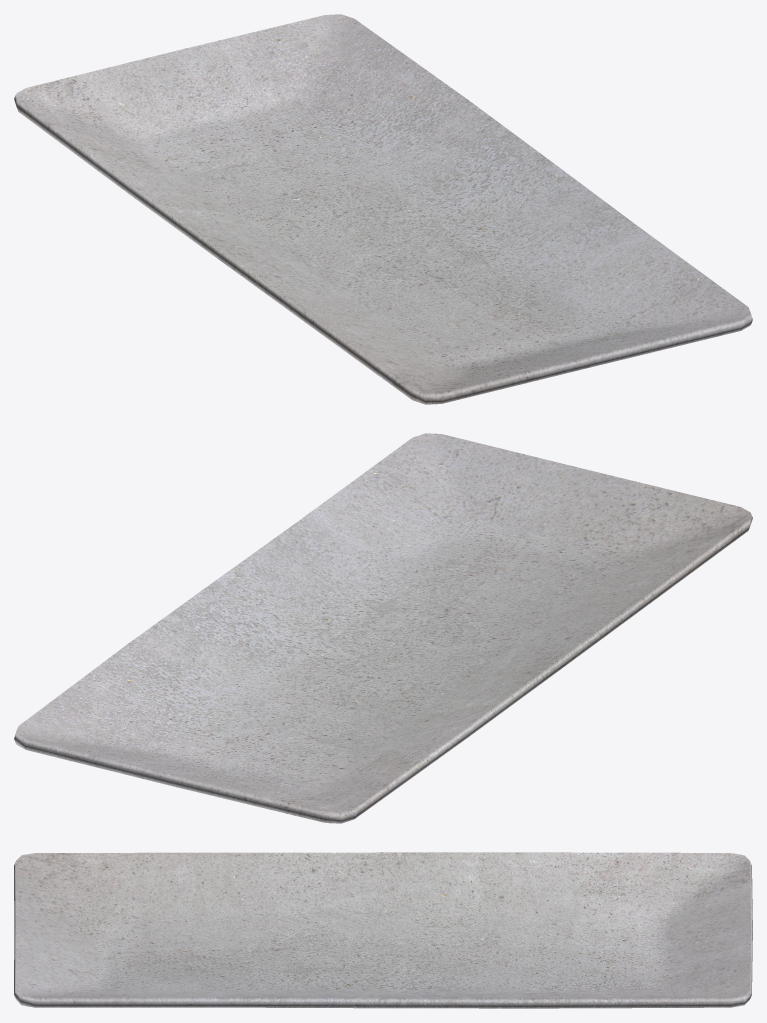
Rendered from sara08.fbx.
3 views of the same model, one above another, from view 1: azimuth 30°, elevation 25°; view 2: azimuth 150°, elevation 25°; view 3: azimuth 270°, elevation 25° (orthographic). The views are drawn at different scales.
Parts seen in each view (by area): view 1: Sara08; view 2: Sara08; view 3: Sara08.
Boxes of the visible parts, <box> form: Sara08: <box>14,14,752,404</box>; Sara08: <box>14,433,752,823</box>; Sara08: <box>14,852,752,1008</box>.
Size of the model in its own units: 11.78 by 1.35 by 24.88.
